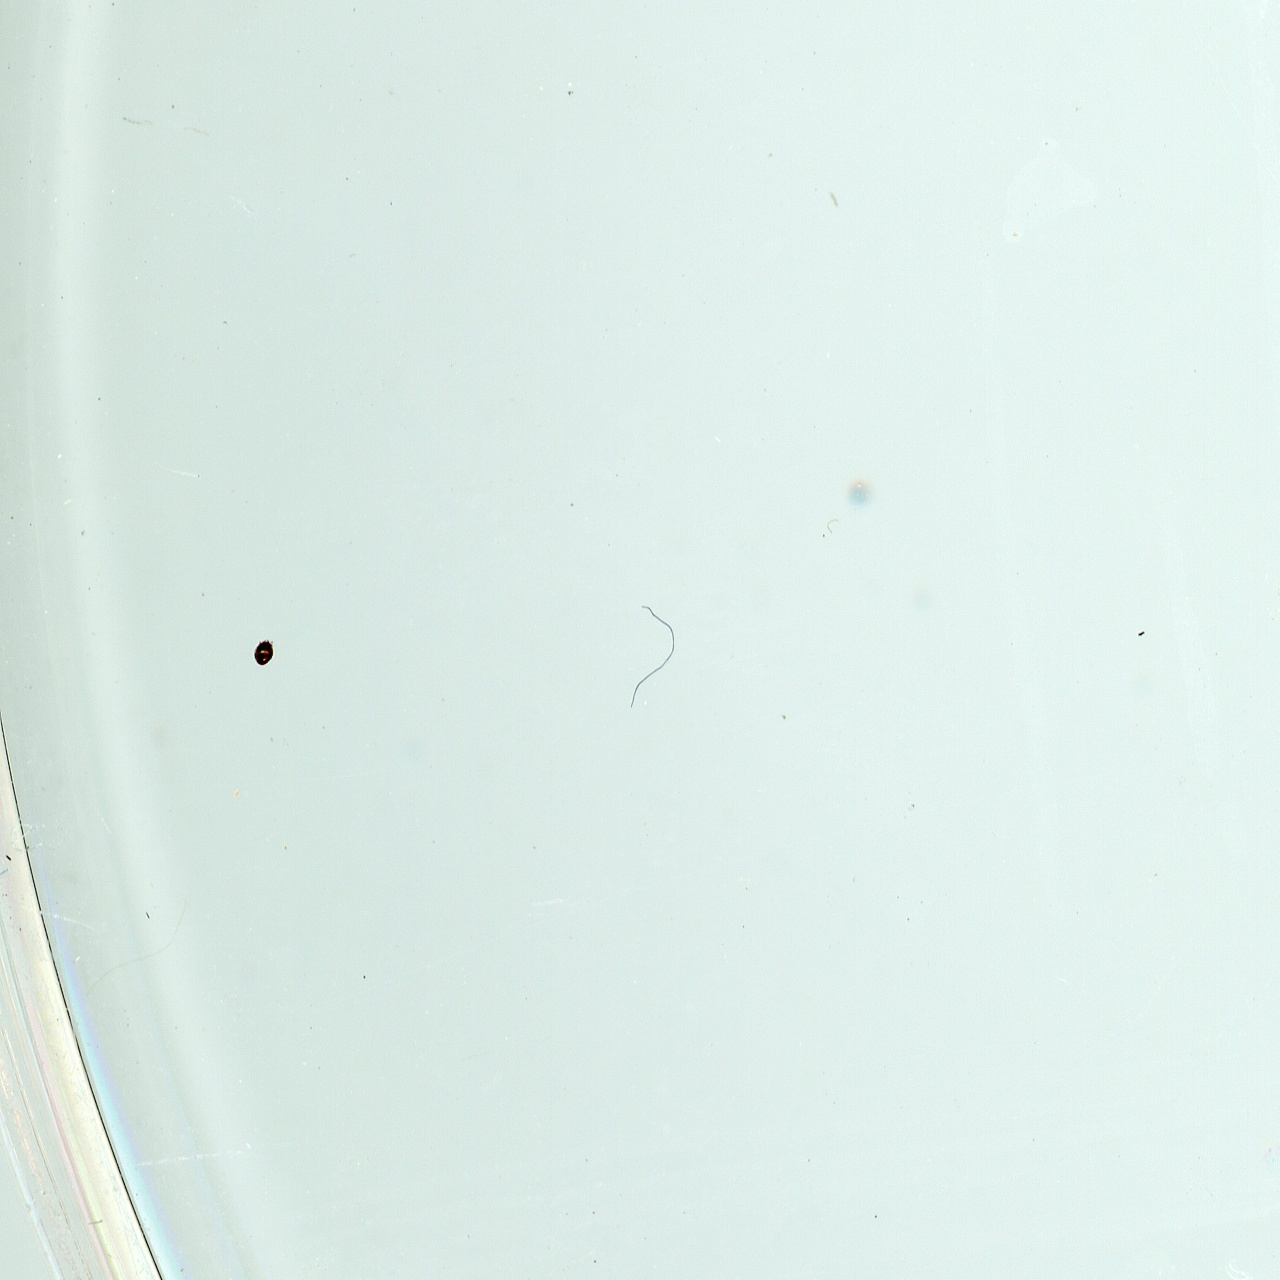arthropod: (254, 639, 274, 666)
